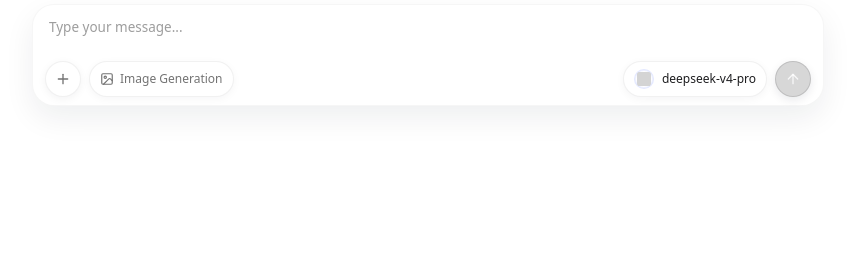
ThreadComposer › renders slash commands as direct actions with current status
The width and height of the screenshot is (857, 274).
In the text box named "Message input": (428, 30) x1=33 y1=5 x2=823 y2=55, type "/"
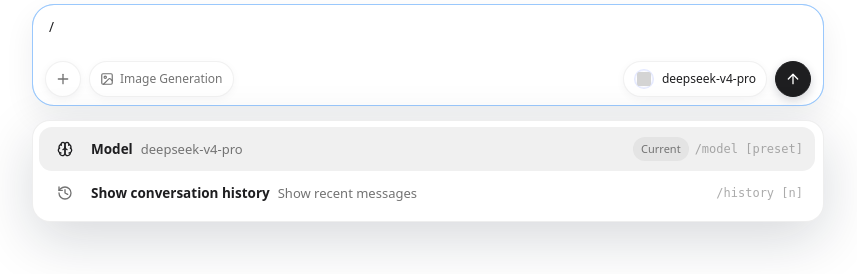
Expected: the option "Model deepseek-v4-pro Current /model [preset]" is shown, x1=39 y1=127 x2=815 y2=171
Expected: the text "Current" is shown, x1=633 y1=137 x2=689 y2=161
Expected: the text "/model [preset]" is shown, x1=695 y1=140 x2=803 y2=158
